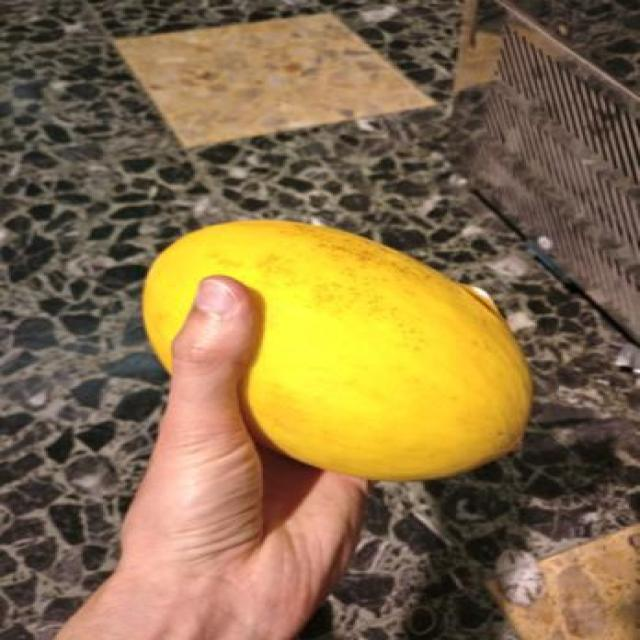Honeydew: (142, 221, 535, 476)
